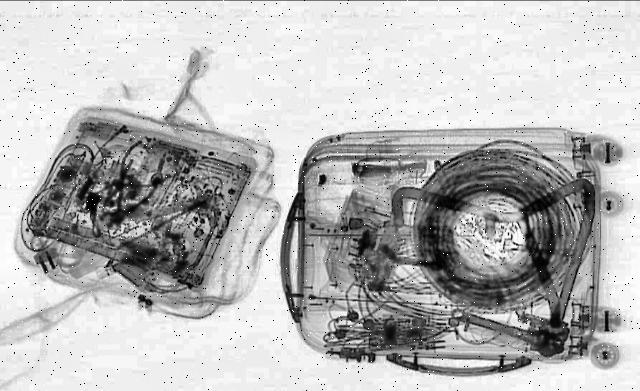Pliers: (85, 158, 172, 234)
Wrench: (438, 298, 576, 360)
